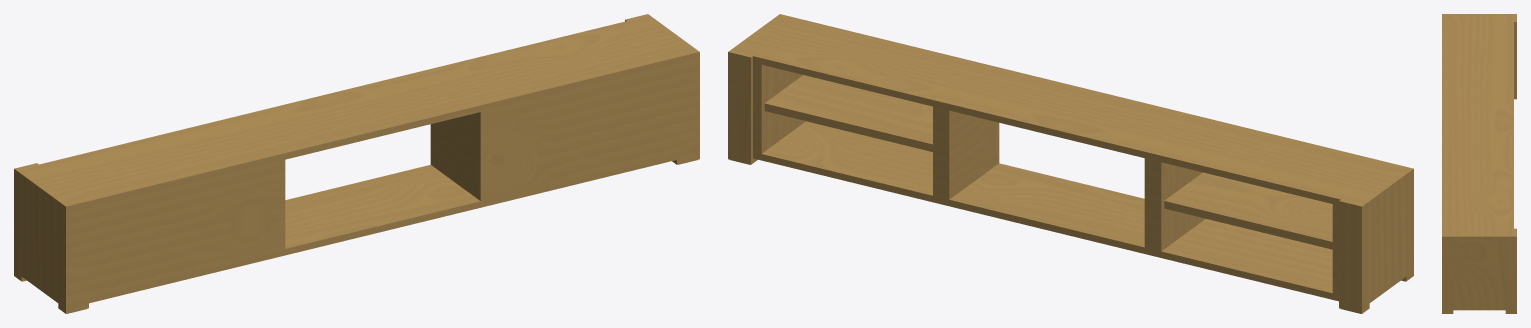
File: TV_console.fbx
3 views of the same model, side by side, from view 1: azimuth 30°, elevation 25°; view 2: azimuth 150°, elevation 25°; view 3: azimuth 270°, elevation 25° (orthographic). The views are drawn at different scales.
Visible parts, largest first — view 1: TV_console; view 2: TV_console; view 3: TV_console.
Boxes of the visible parts, box(x1,y1,x2,y2) form: TV_console: box(14, 14, 699, 313); TV_console: box(728, 14, 1413, 313); TV_console: box(1442, 14, 1516, 313).
Size of the model in its own units: 227 by 37.02 by 32.21.
